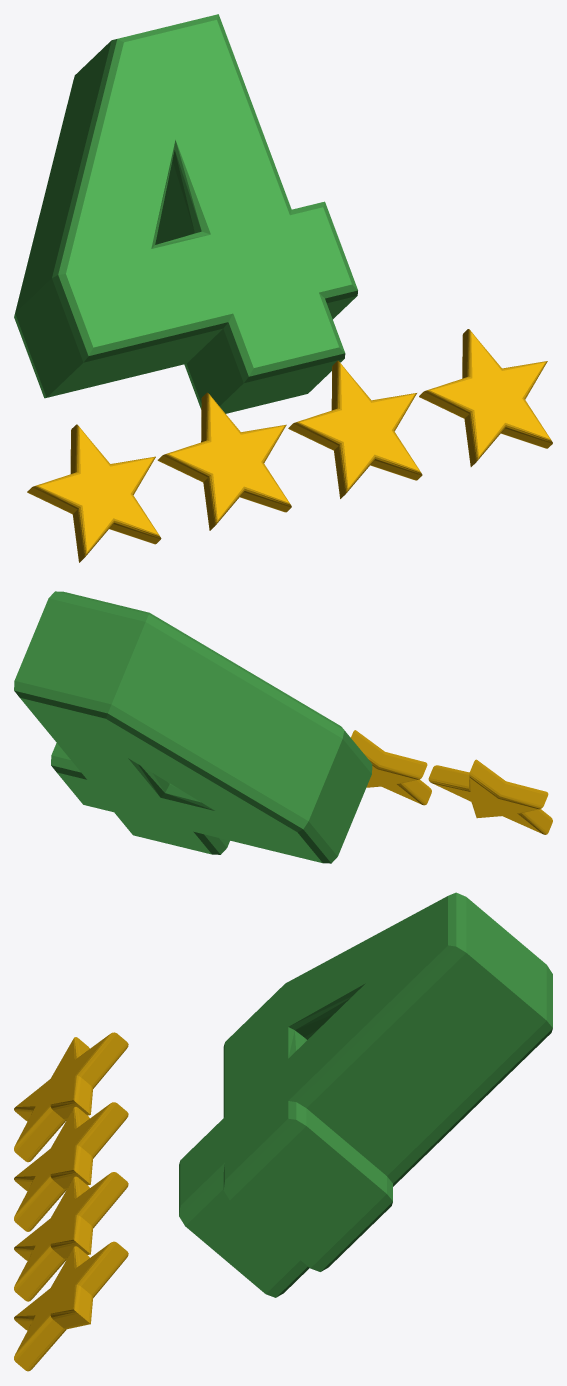
File: num_4.glb
The picture shows the model from 3 angles, top to bottom: view 1: azimuth 30°, elevation 25°; view 2: azimuth 150°, elevation 25°; view 3: azimuth 270°, elevation 25°; orthographic projection. The views are drawn at different scales.
Size of the model in its own units: 1.66 by 0.9951 by 1.37.
